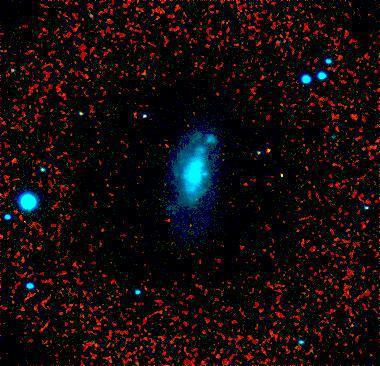star: (273, 155, 303, 185)
